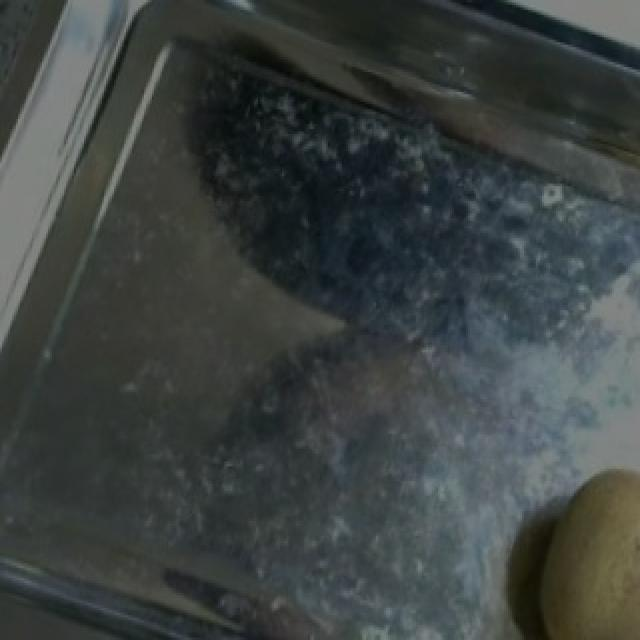Fruit: (508, 446, 640, 640)
